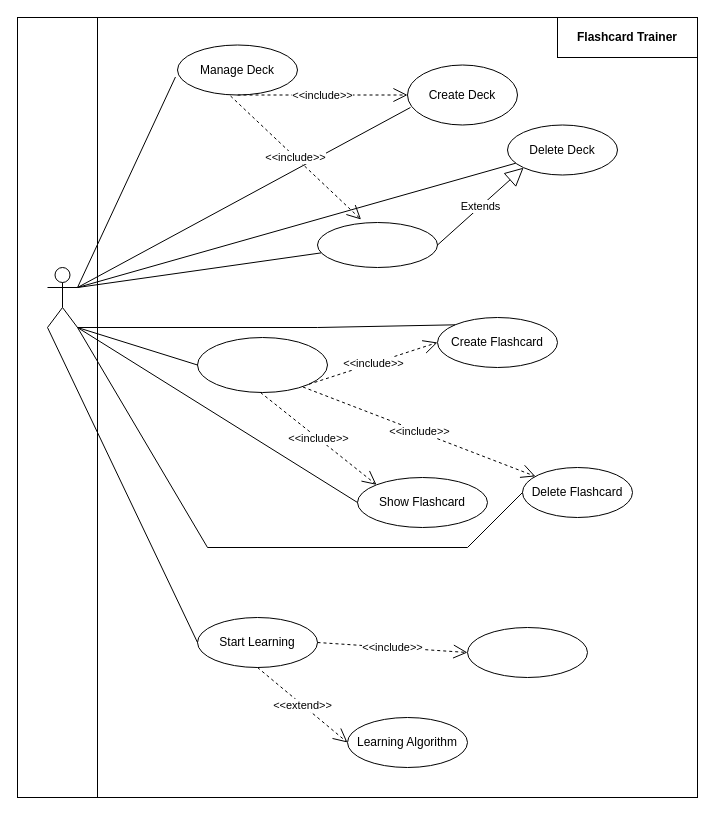
The diagram is 715 pixels wide and 815 high, and some of its shapes have lost their labels. The shapes that lost their labels are listed below. From the top down, each one's centre as x and y in pixels, then its label:
the point at 377,245: Show Deck
the point at 62,297: User
the point at 262,364: Manage FlashCard
the point at 527,652: Maintain Learning History
